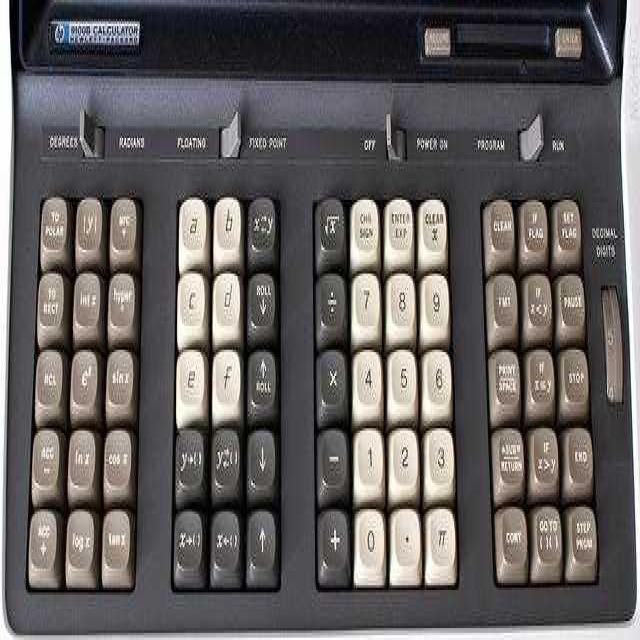Calculator: (2, 0, 637, 633)
